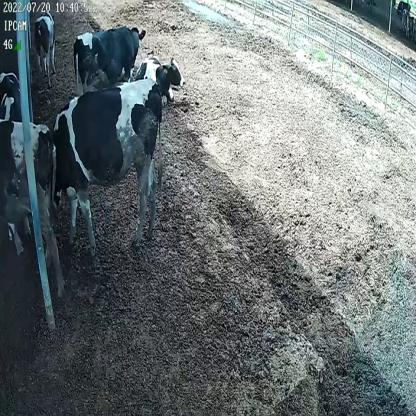cow: (51, 77, 163, 252), (70, 24, 147, 92), (137, 48, 184, 106), (34, 8, 57, 86)
